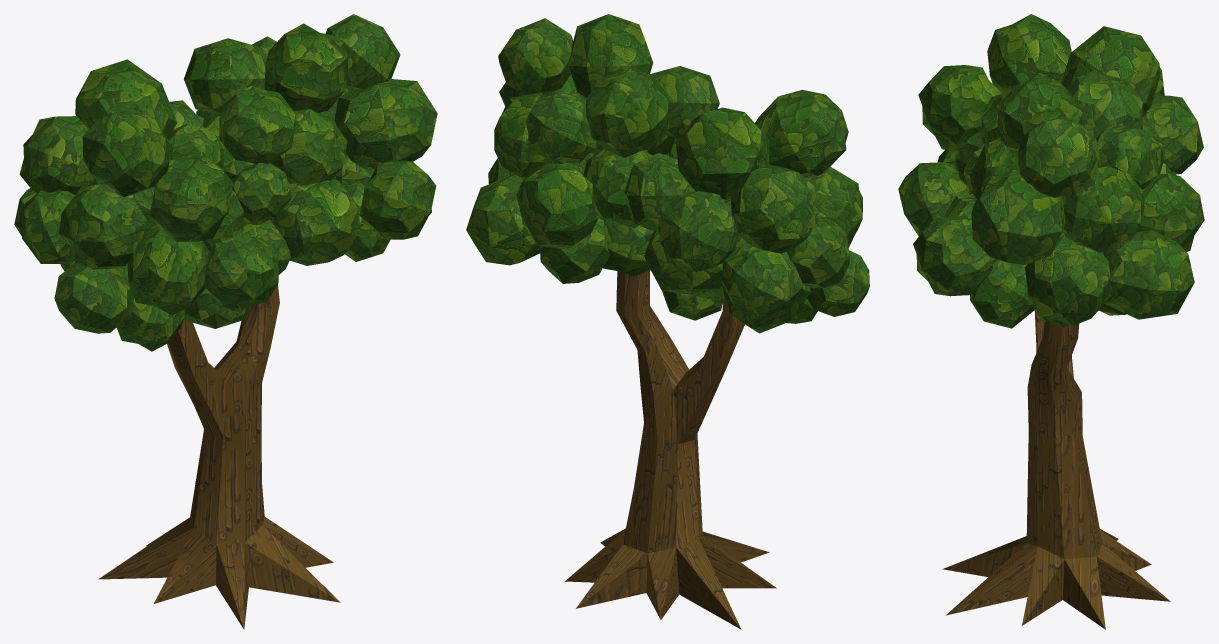
The model's file is StylisedTree1.fbx.
3 views of the same model, side by side, from view 1: azimuth 30°, elevation 25°; view 2: azimuth 150°, elevation 25°; view 3: azimuth 270°, elevation 25° (orthographic).
Visible parts, largest first — view 1: Tree1; view 2: Tree1; view 3: Tree1.
Boxes of the visible parts, box(x1,y1,x2,y2) form: Tree1: box(14, 14, 437, 629); Tree1: box(466, 14, 869, 629); Tree1: box(898, 14, 1204, 629).
Bounding box in the file's own units: 5.58 × 7.7 × 3.94.
